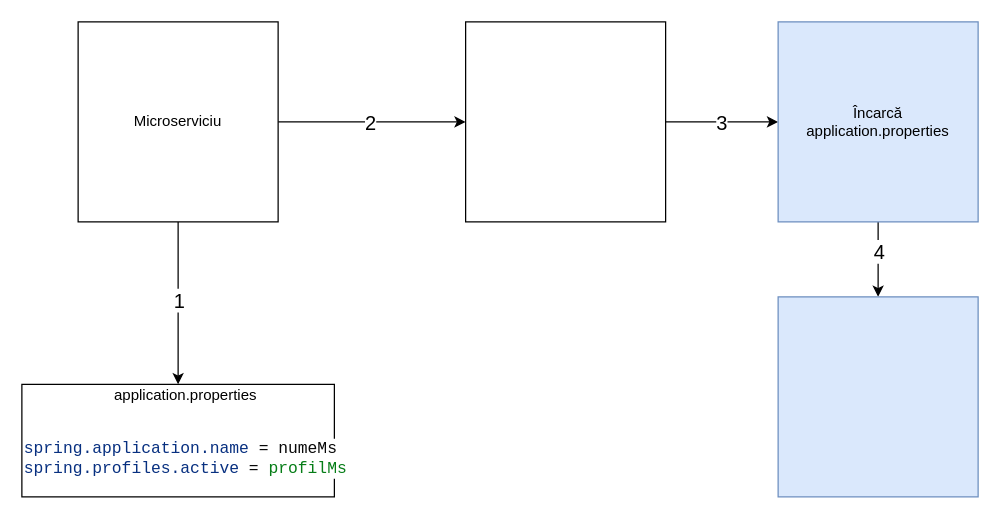
Image size: 1000x519. Some labels were removed from this diagram. The shapes that lost their labels are listed below. From the top down, each one's box as (x1, y1, x2, y2) in pixels, then its label:
(464, 21, 666, 222): Server de configurări
(777, 296, 978, 497): Încarcă numeMs-profilMs.properties
